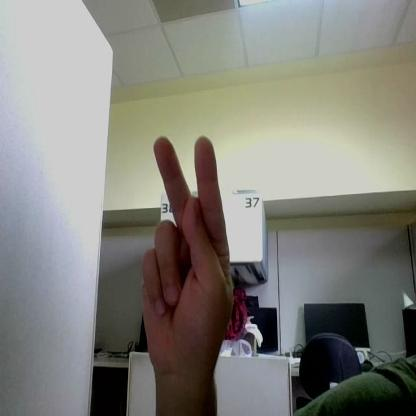K: (144, 137, 232, 366)
